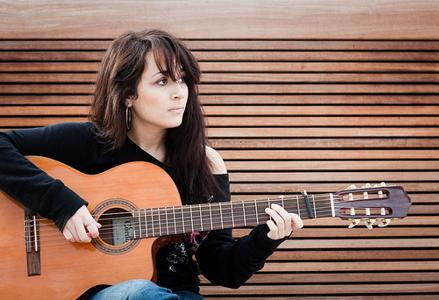person: (3, 31, 302, 299)
